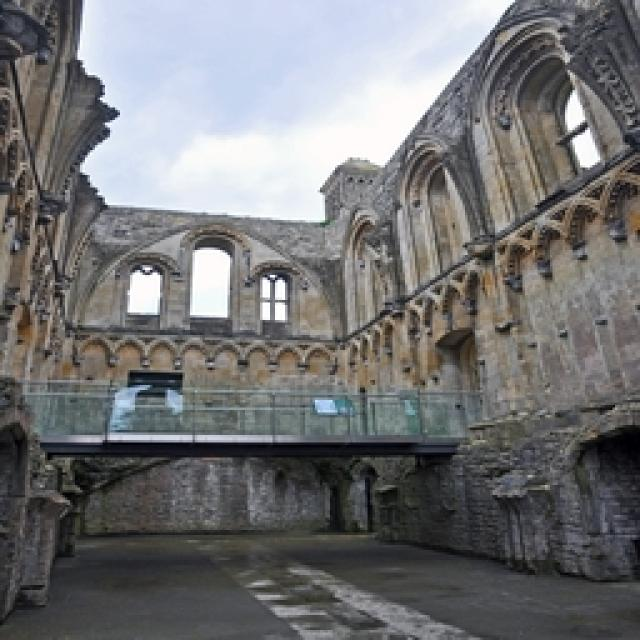Abbey: (75, 169, 360, 381)
